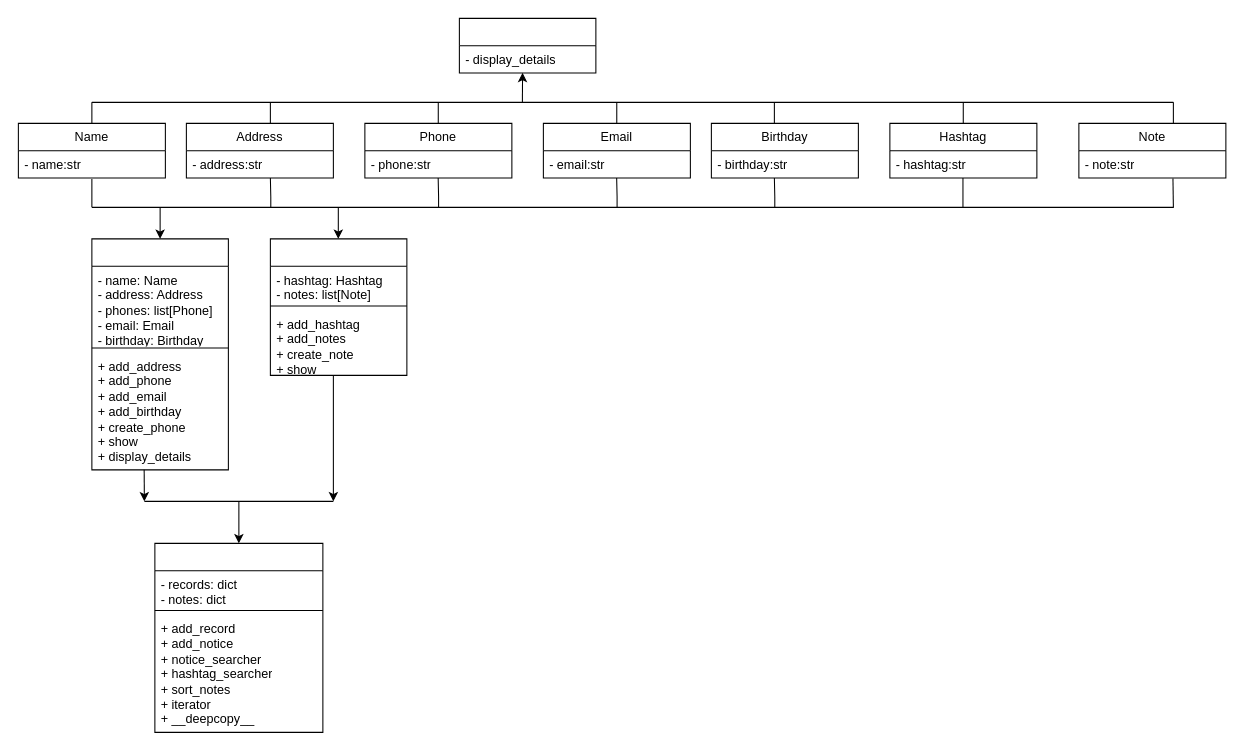
This 1244x754 diagram has some shape labels left out. Each missing label, with the box of its shape:
AddressBook(UserDict): (154, 542, 323, 732)
Contact (ABC): (458, 17, 596, 73)
Notice: (269, 238, 407, 375)
Record(Contact): (91, 238, 228, 470)
